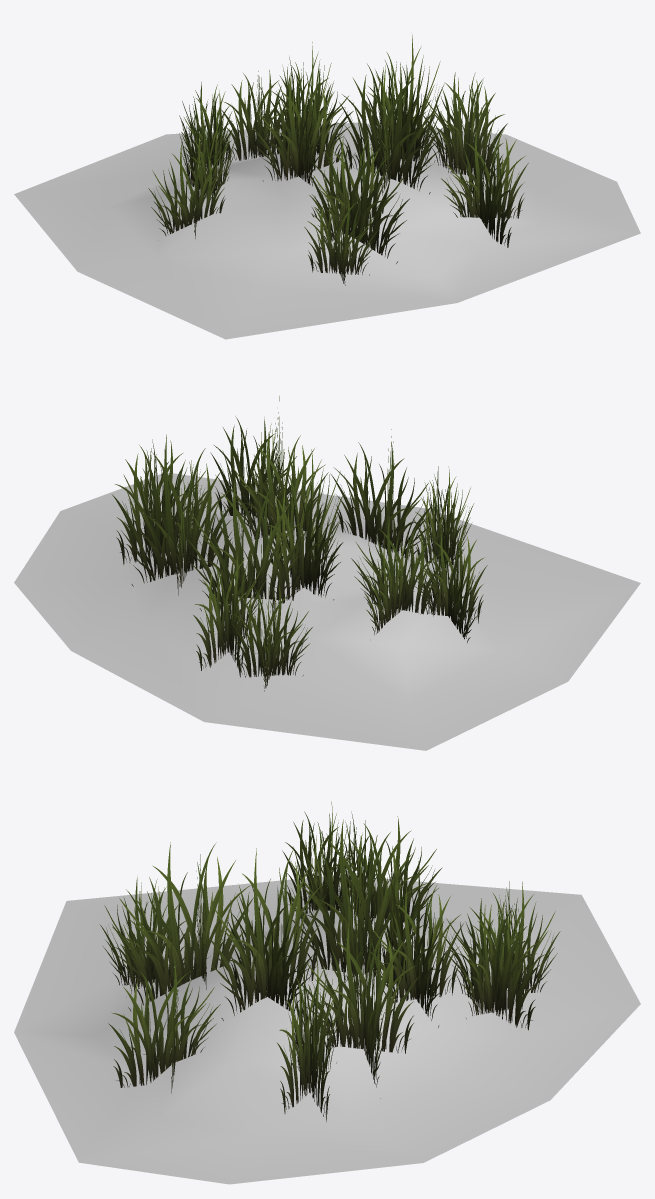
File: Soil_Grass_02.fbx
3 views of the same model, one above another, from view 1: azimuth 30°, elevation 25°; view 2: azimuth 150°, elevation 25°; view 3: azimuth 270°, elevation 25° (orthographic). The views are drawn at different scales.
Parts seen in each view (by area): view 1: Soil_Grass_02; view 2: Soil_Grass_02; view 3: Soil_Grass_02.
Part boxes in pixels (left/top/right/bottom): Soil_Grass_02: left=14, top=35, right=640, bottom=339; Soil_Grass_02: left=14, top=396, right=640, bottom=750; Soil_Grass_02: left=14, top=801, right=640, bottom=1184.
Size of the model in its own units: 5.44 by 4.66 by 1.81.
